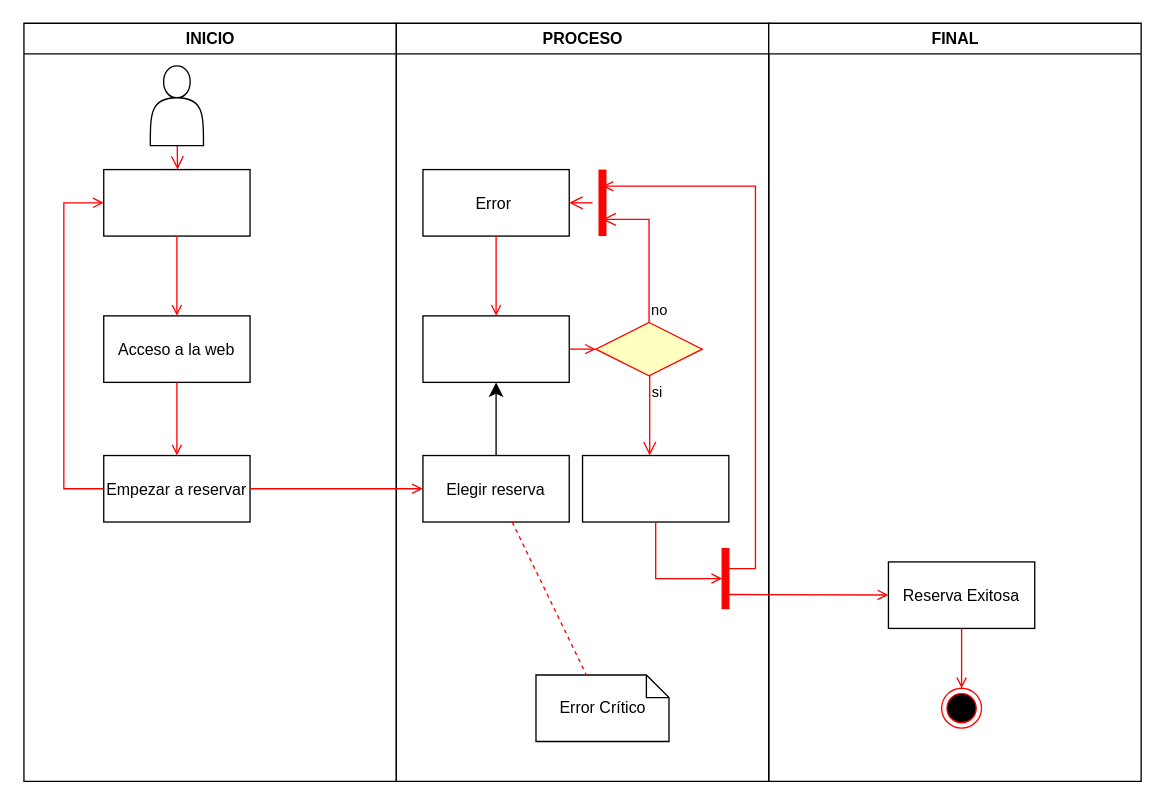
Some shapes in this 1164 by 805 pixel diagram are drawn without their labels. Each missing label, with the centre of its shape:
pago exitoso: point (648, 348)
Procesando: point (655, 488)
Registrar pago: point (495, 348)
Registro de usuario: point (176, 202)
